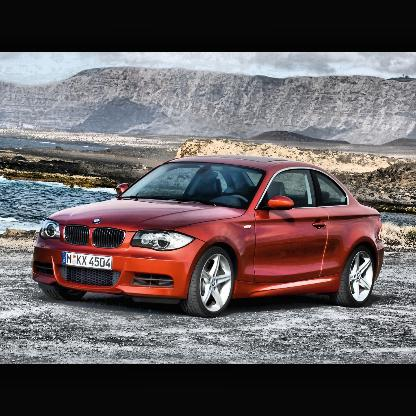BMW 1 Series Coupe 2012: (32, 159, 384, 321)
